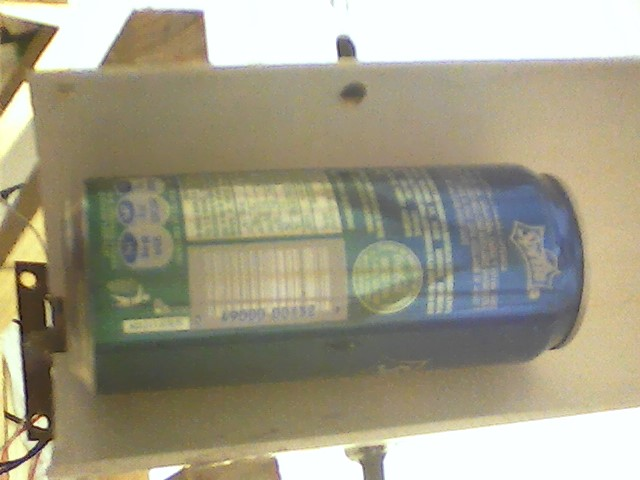lata: (53, 161, 602, 400)
